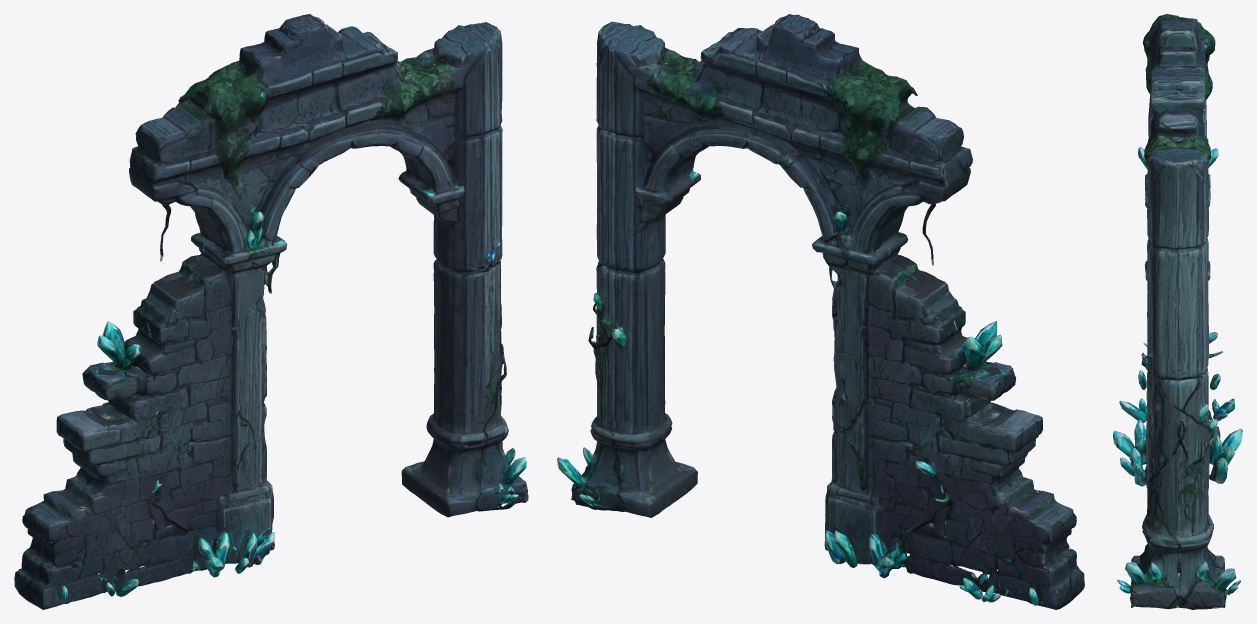
The model's file is Pillar5.fbx.
3 views of the same model, side by side, from view 1: azimuth 30°, elevation 25°; view 2: azimuth 150°, elevation 25°; view 3: azimuth 270°, elevation 25° (orthographic). The views are drawn at different scales.
Visible parts, largest first — view 1: texture_mapping; view 2: texture_mapping; view 3: texture_mapping.
Part boxes in pixels (<box>): texture_mapping: <box>14,14,528,609</box>; texture_mapping: <box>557,14,1084,609</box>; texture_mapping: <box>1113,14,1242,609</box>.
Bounding box in the file's own units: 0.9917 × 0.2386 × 0.9997.
Materials: 1 (1 with a texture image).
